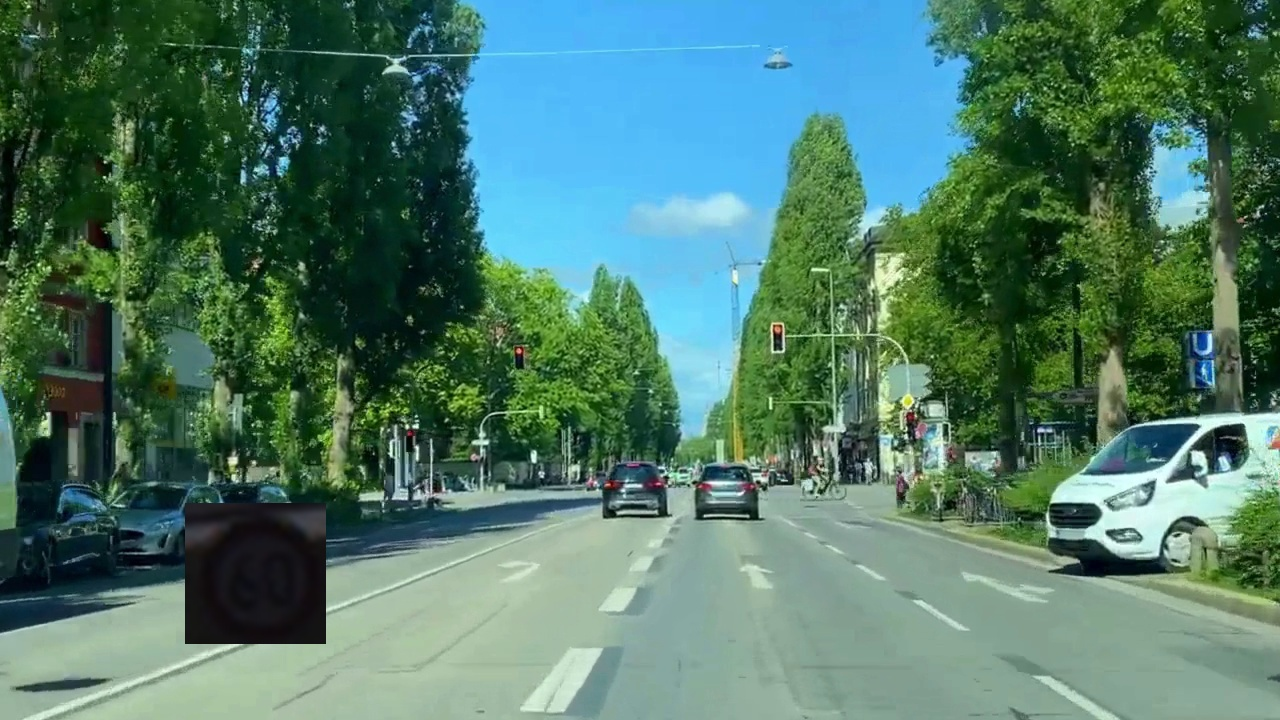Speed 60: (185, 503, 326, 644)
